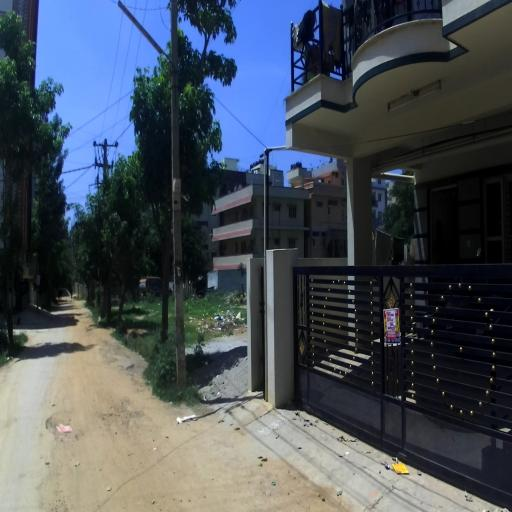street_light_0: (117, 1, 180, 98)
